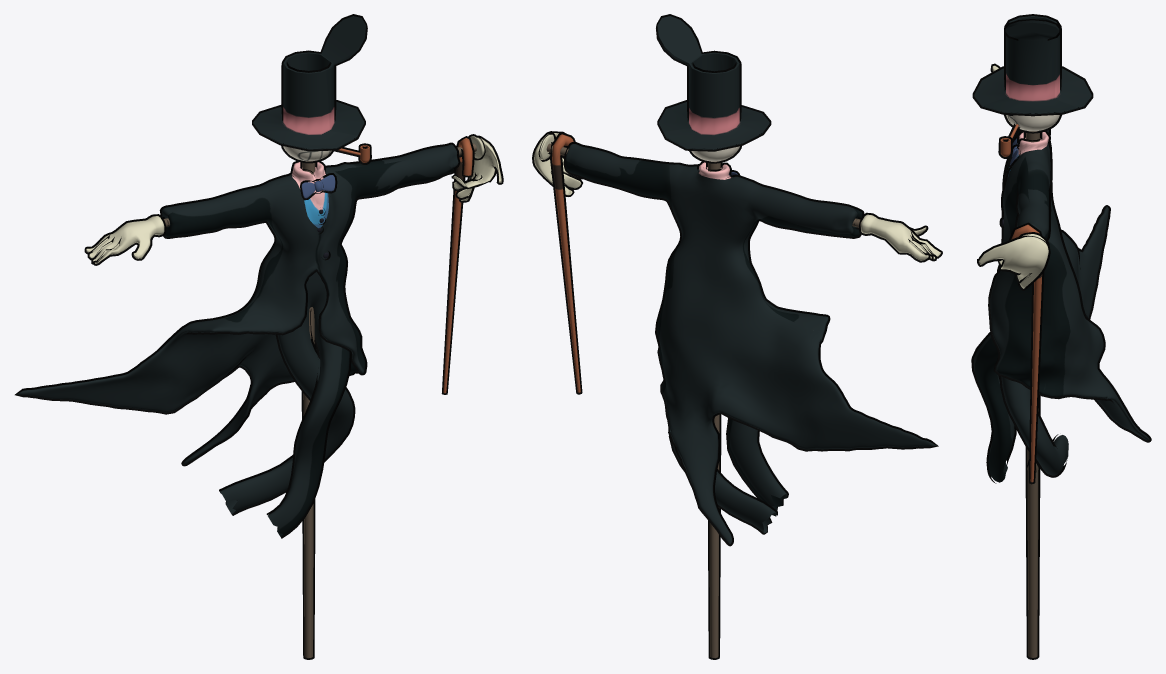
Rendered from howls_moving_castle_-_turnip_head.glb.
The picture shows the model from 3 angles, left to right: view 1: azimuth 30°, elevation 25°; view 2: azimuth 150°, elevation 25°; view 3: azimuth 270°, elevation 25°; orthographic projection. The views are drawn at different scales.
Visible parts, largest first — view 1: tn4; view 2: tn4; view 3: tn4.
Part boxes in pixels (x1,y1,x2,y2): tn4: (15, 14, 503, 659); tn4: (532, 14, 942, 659); tn4: (971, 14, 1151, 659).
Size of the model in its own units: 0.0592 by 0.0811 by 0.0199.
Materials: 2 (1 with a texture image).
